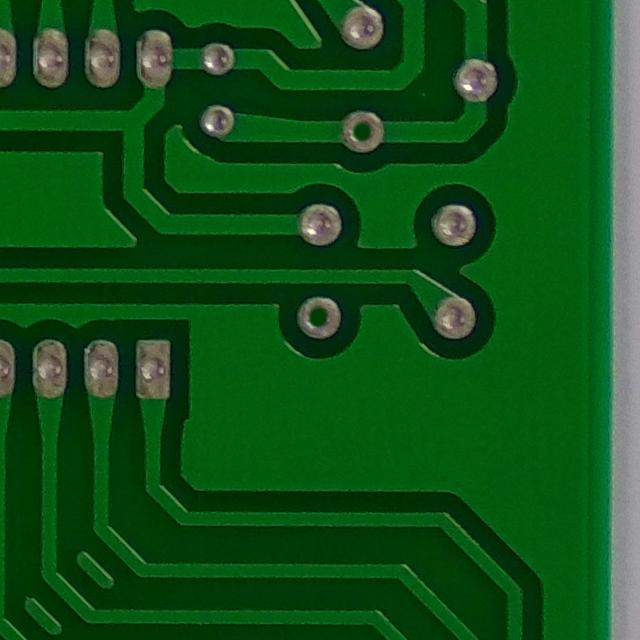missing_hole: (291, 289, 349, 351)
